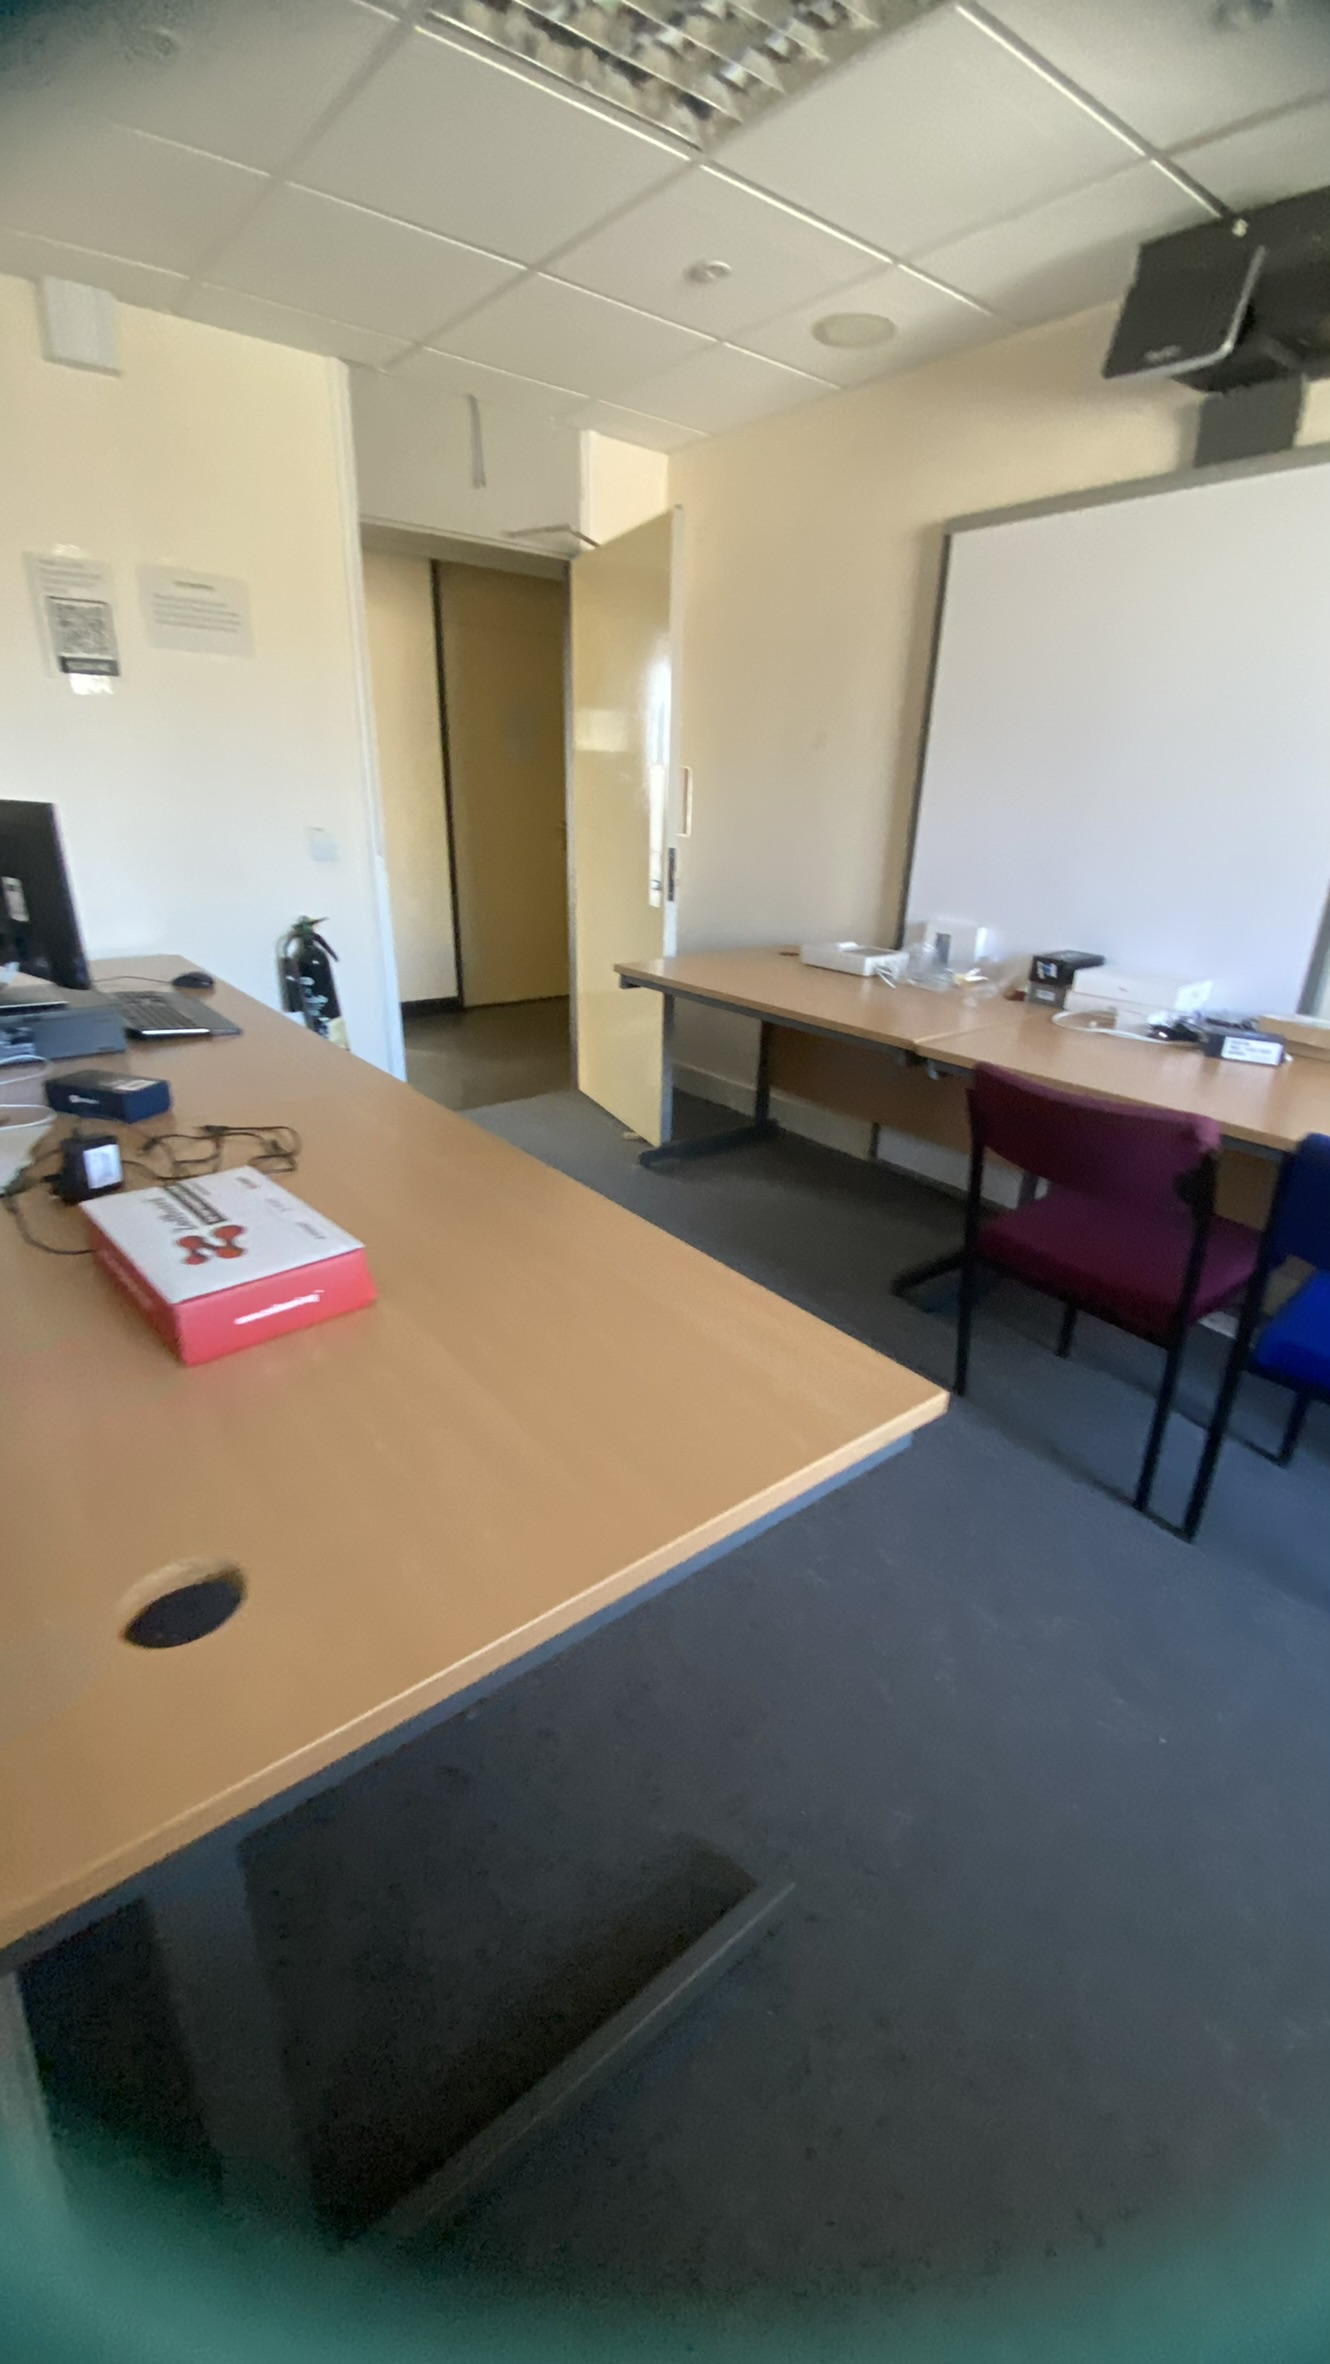table: (3, 937, 879, 1628), (598, 921, 1330, 1242)
